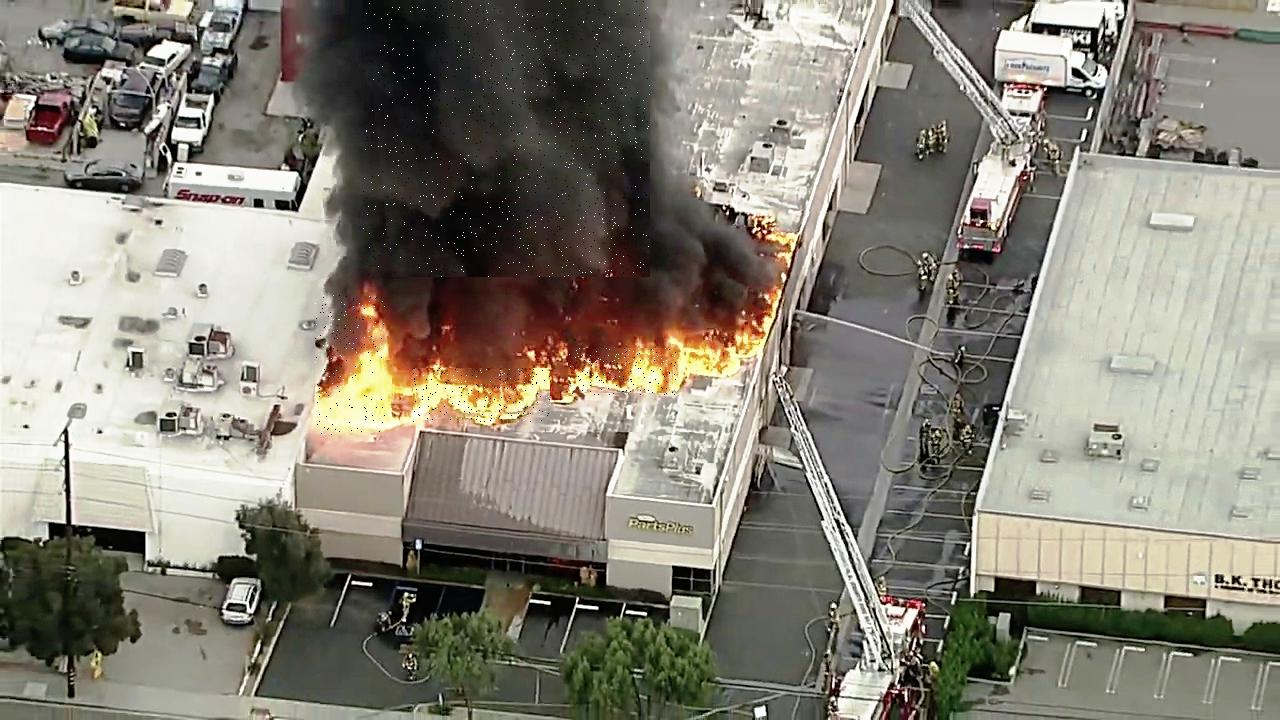fire: (315, 295, 385, 435), (413, 369, 550, 423), (569, 349, 677, 396)
smoke: (363, 0, 650, 277)
